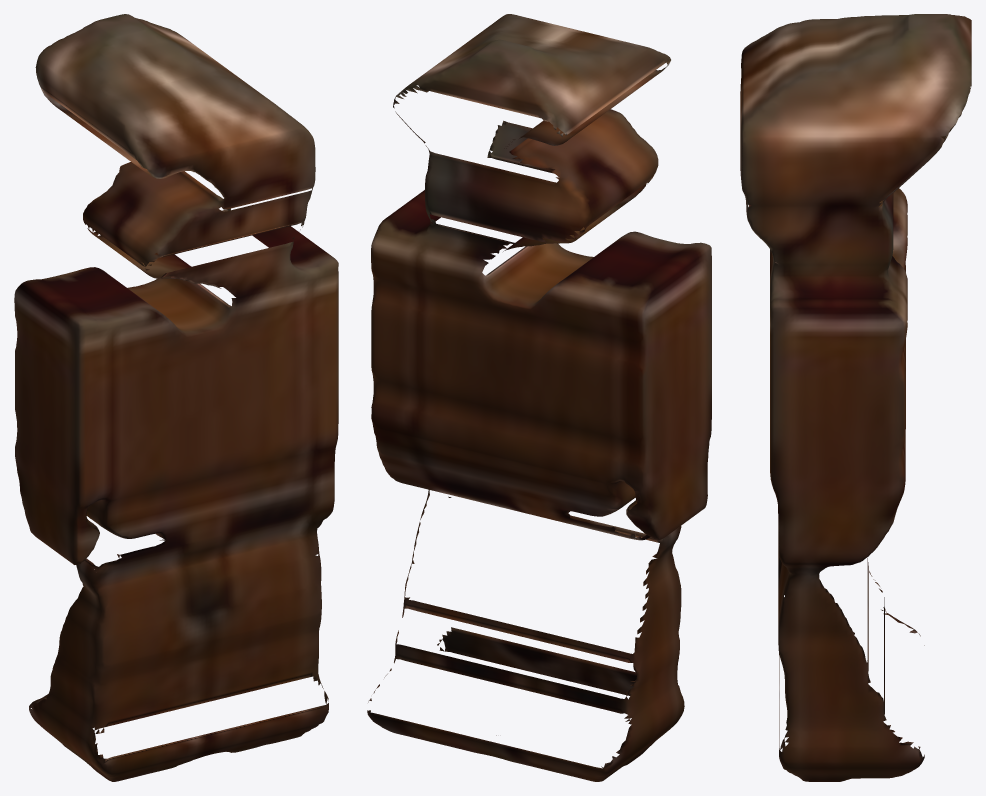
3 views of the same model, side by side, from view 1: azimuth 30°, elevation 25°; view 2: azimuth 150°, elevation 25°; view 3: azimuth 270°, elevation 25° (orthographic). The views are drawn at different scales.
Visible parts, largest first — view 1: vhull-W3; view 2: vhull-W3; view 3: vhull-W3.
Part boxes in pixels (<box>): vhull-W3: <box>14,14,338,781</box>; vhull-W3: <box>367,14,711,781</box>; vhull-W3: <box>740,14,971,781</box>.
Bounding box in the file's own units: 1.02 × 2.6 × 0.7733.
